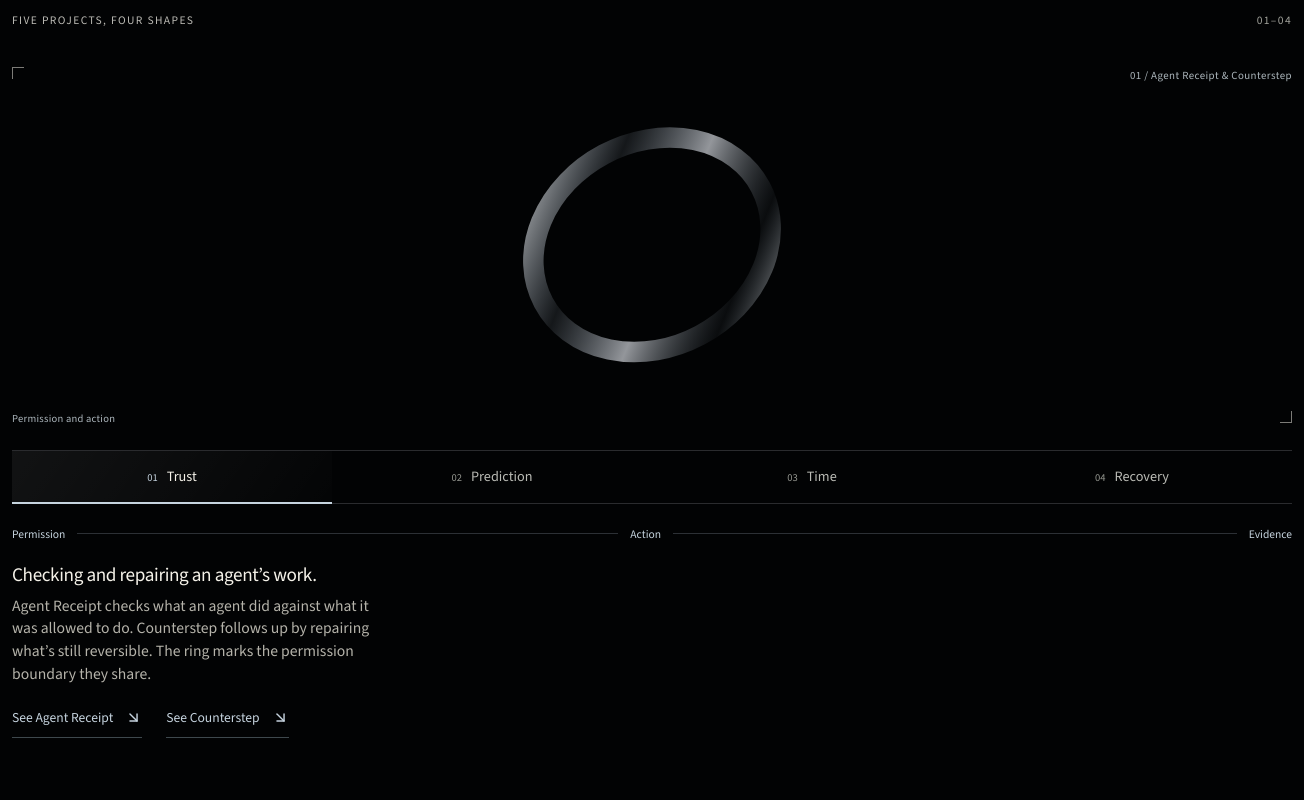
Test: glass fallback selection › keeps every idea and destination usable with no WebGL and motion paused
Click the button "03 Time".
click(812, 477)  # box [652,451,972,503]
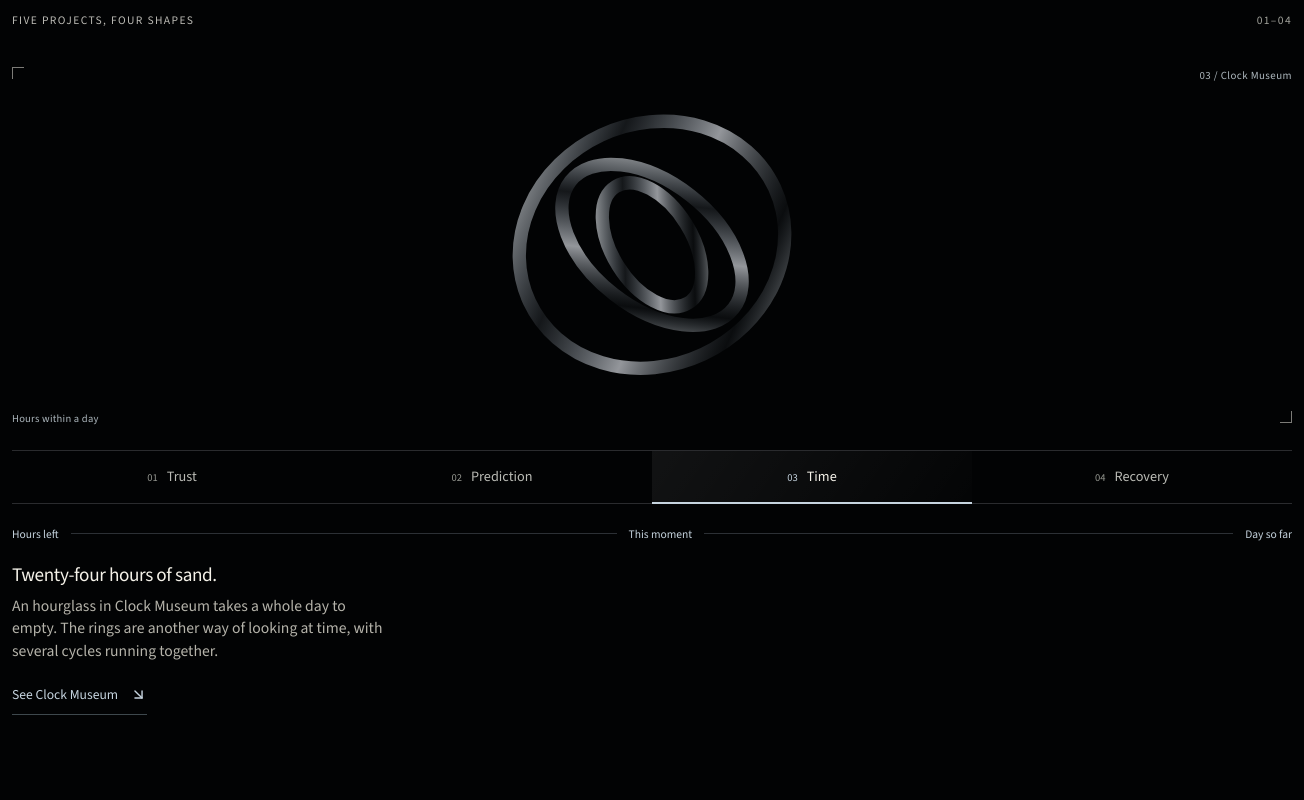
Expected: the link "See Clock Museum" is shown, [12,675,147,715]
